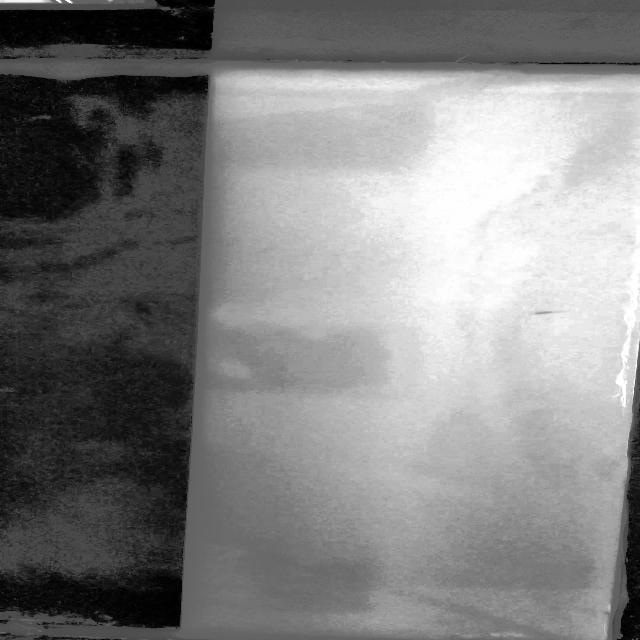shrimp: (520, 302, 581, 318)
